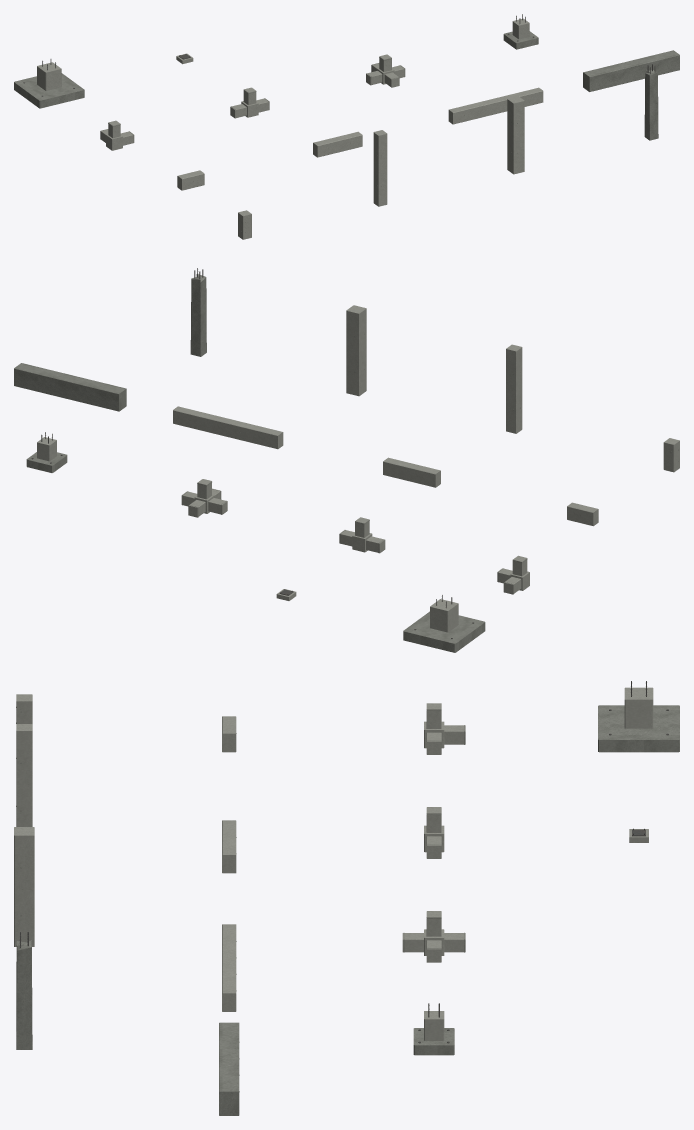
The model's file is PZ_Concrete_Pillar_Beam_Kit_ALL.glb.
3 views of the same model, one above another, from view 1: azimuth 30°, elevation 25°; view 2: azimuth 150°, elevation 25°; view 3: azimuth 270°, elevation 25° (orthographic). The views are drawn at different scales.
Parts seen in each view (by area): view 1: RENDER_PZ_Beam_0500x0650_4m__RENDER_Beam_Precast_Core__000, RENDER_PZ_Beam_0350x0500_4m__RENDER_Beam_Precast_Core__000, RENDER_PZ_Reinforced_Base_2m__RENDER_Foundation_Footing__000, RENDER_PZ_Column_0500_3m__RENDER_Concrete_Column_Core__000, RENDER_PZ_Column_0400_3m__RENDER_Concrete_Column_Core__000, RENDER_PZ_Column_0400_3m_Damaged__RENDER_Concrete_Column_Cor, RENDER_PZ_Beam_0350x0500_2m__RENDER_Beam_Precast_Core__000, RENDER_PZ_Reinforced_Base_2m__RENDER_Raised_Pedestal__001, RENDER_PZ_Beam_0350x0500_1m__RENDER_Beam_Precast_Core__000, RENDER_PZ_Reinforced_Base_1m__RENDER_Foundation_Footing__000, RENDER_PZ_Column_0400_1m__RENDER_Concrete_Column_Core__000; view 2: RENDER_PZ_Beam_0500x0650_4m__RENDER_Beam_Precast_Core__000, RENDER_PZ_Beam_0350x0500_4m__RENDER_Beam_Precast_Core__000, RENDER_PZ_Reinforced_Base_2m__RENDER_Foundation_Footing__000, RENDER_PZ_Column_0500_3m__RENDER_Concrete_Column_Core__000, RENDER_PZ_Column_0400_3m__RENDER_Concrete_Column_Core__000, RENDER_PZ_Column_0400_3m_Damaged__RENDER_Concrete_Column_Cor, RENDER_PZ_Beam_0350x0500_2m__RENDER_Beam_Precast_Core__000, RENDER_PZ_Reinforced_Base_2m__RENDER_Raised_Pedestal__001, RENDER_PZ_Beam_0350x0500_1m__RENDER_Beam_Precast_Core__000; view 3: RENDER_PZ_Reinforced_Base_2m__RENDER_Foundation_Footing__000, RENDER_PZ_Column_0500_3m__RENDER_Concrete_Column_Core__000, RENDER_PZ_Beam_0500x0650_4m__RENDER_Beam_Precast_Core__000, RENDER_PZ_Column_0400_3m_Damaged__RENDER_Concrete_Column_Cor, RENDER_PZ_Column_0400_3m__RENDER_Concrete_Column_Core__000, RENDER_PZ_Beam_0350x0500_4m__RENDER_Beam_Precast_Core__000, RENDER_PZ_Reinforced_Base_2m__RENDER_Raised_Pedestal__001, RENDER_PZ_Reinforced_Base_1m__RENDER_Foundation_Footing__000, RENDER_PZ_Beam_0350x0500_2m__RENDER_Beam_Precast_Core__000.
Part boxes in pixels (x1,y1,x2,y2): RENDER_PZ_Beam_0500x0650_4m__RENDER_Beam_Precast_Core__000: [583, 50, 679, 91]; RENDER_PZ_Beam_0350x0500_4m__RENDER_Beam_Precast_Core__000: [448, 87, 543, 124]; RENDER_PZ_Reinforced_Base_2m__RENDER_Foundation_Footing__000: [14, 73, 84, 108]; RENDER_PZ_Column_0500_3m__RENDER_Concrete_Column_Core__000: [507, 96, 524, 174]; RENDER_PZ_Column_0400_3m__RENDER_Concrete_Column_Core__000: [373, 130, 387, 206]; RENDER_PZ_Column_0400_3m_Damaged__RENDER_Concrete_Column_Cor: [644, 70, 658, 140]; RENDER_PZ_Beam_0350x0500_2m__RENDER_Beam_Precast_Core__000: [313, 131, 362, 157]; RENDER_PZ_Reinforced_Base_2m__RENDER_Raised_Pedestal__001: [37, 62, 61, 90]; RENDER_PZ_Beam_0350x0500_1m__RENDER_Beam_Precast_Core__000: [177, 170, 204, 190]; RENDER_PZ_Reinforced_Base_1m__RENDER_Foundation_Footing__000: [503, 31, 538, 49]; RENDER_PZ_Column_0400_1m__RENDER_Concrete_Column_Core__000: [238, 210, 251, 239]; RENDER_PZ_Beam_0500x0650_4m__RENDER_Beam_Precast_Core__000: [14, 363, 126, 411]; RENDER_PZ_Beam_0350x0500_4m__RENDER_Beam_Precast_Core__000: [173, 406, 283, 449]; RENDER_PZ_Reinforced_Base_2m__RENDER_Foundation_Footing__000: [403, 611, 485, 652]; RENDER_PZ_Column_0500_3m__RENDER_Concrete_Column_Core__000: [346, 305, 366, 396]; RENDER_PZ_Column_0400_3m__RENDER_Concrete_Column_Core__000: [506, 344, 522, 433]; RENDER_PZ_Column_0400_3m_Damaged__RENDER_Concrete_Column_Cor: [190, 274, 206, 356]; RENDER_PZ_Beam_0350x0500_2m__RENDER_Beam_Precast_Core__000: [383, 457, 440, 487]; RENDER_PZ_Reinforced_Base_2m__RENDER_Raised_Pedestal__001: [430, 599, 458, 632]; RENDER_PZ_Beam_0350x0500_1m__RENDER_Beam_Precast_Core__000: [567, 502, 598, 526]; RENDER_PZ_Reinforced_Base_2m__RENDER_Foundation_Footing__000: [598, 705, 679, 752]; RENDER_PZ_Column_0500_3m__RENDER_Concrete_Column_Core__000: [14, 827, 34, 946]; RENDER_PZ_Beam_0500x0650_4m__RENDER_Beam_Precast_Core__000: [219, 1022, 239, 1115]; RENDER_PZ_Column_0400_3m_Damaged__RENDER_Concrete_Column_Cor: [16, 940, 32, 1049]; RENDER_PZ_Column_0400_3m__RENDER_Concrete_Column_Core__000: [16, 724, 32, 826]; RENDER_PZ_Beam_0350x0500_4m__RENDER_Beam_Precast_Core__000: [222, 924, 236, 1011]; RENDER_PZ_Reinforced_Base_2m__RENDER_Raised_Pedestal__001: [624, 687, 653, 728]; RENDER_PZ_Reinforced_Base_1m__RENDER_Foundation_Footing__000: [413, 1028, 454, 1055]; RENDER_PZ_Beam_0350x0500_2m__RENDER_Beam_Precast_Core__000: [222, 820, 236, 873].
Size of the model in its own units: 23 by 3.28 by 16.25.
Materials: 3 (3 with a texture image).
